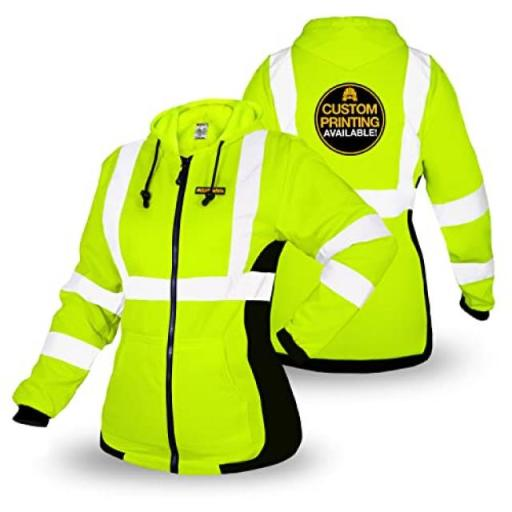vest: (5, 98, 343, 492), (240, 10, 499, 376)
